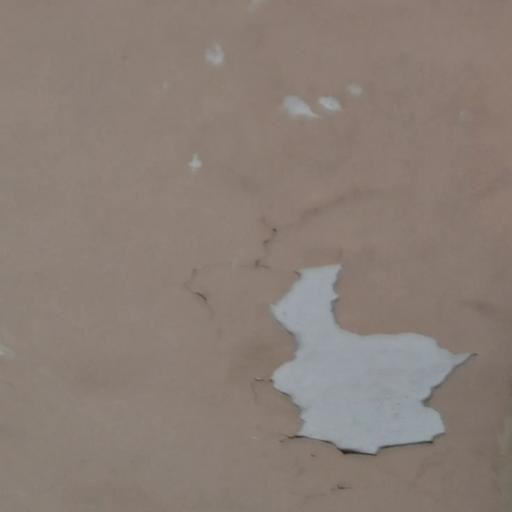peeling: (163, 185, 487, 467), (274, 69, 368, 145), (168, 139, 218, 183), (195, 37, 239, 75)
